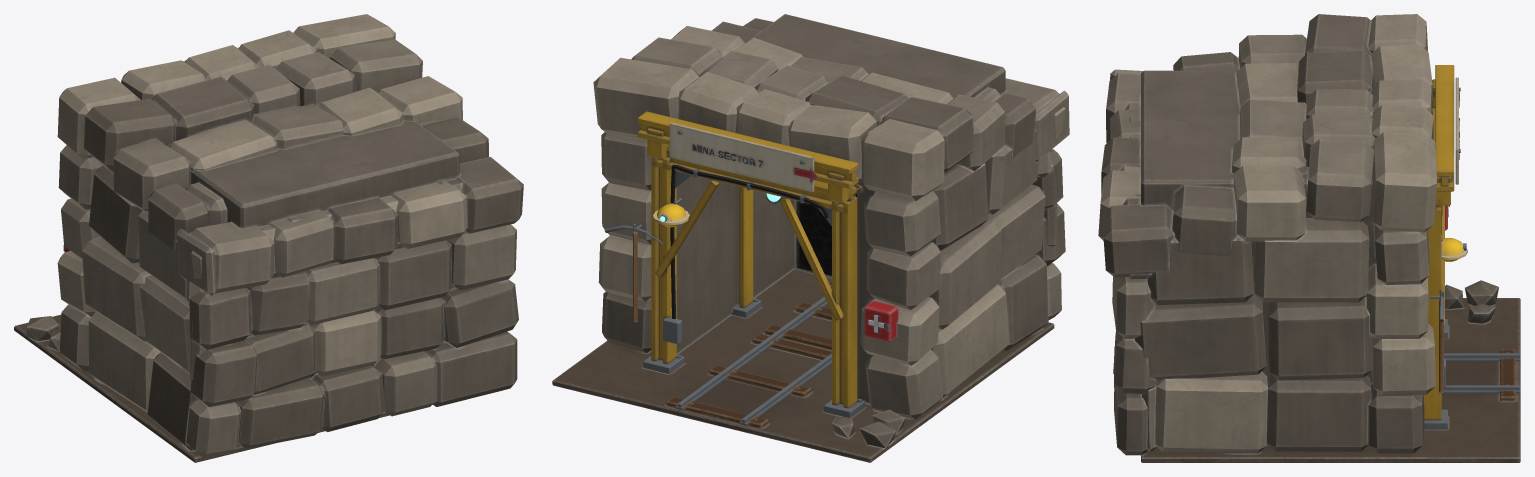
The model's file is entrada_mina.fbx.
The picture shows the model from 3 angles, left to right: view 1: azimuth 30°, elevation 25°; view 2: azimuth 150°, elevation 25°; view 3: azimuth 270°, elevation 25°; orthographic projection. The views are drawn at different scales.
Parts seen in each view (by area): view 1: entrada_mina; view 2: entrada_mina; view 3: entrada_mina.
Part boxes in pixels (left/top/right/bottom): entrada_mina: left=14, top=14, right=523, bottom=462; entrada_mina: left=552, top=14, right=1069, bottom=462; entrada_mina: left=1098, top=14, right=1520, bottom=462.
Bounding box in the file's own units: 6.21 × 5.15 × 6.67.
2 materials, 1 textured.
